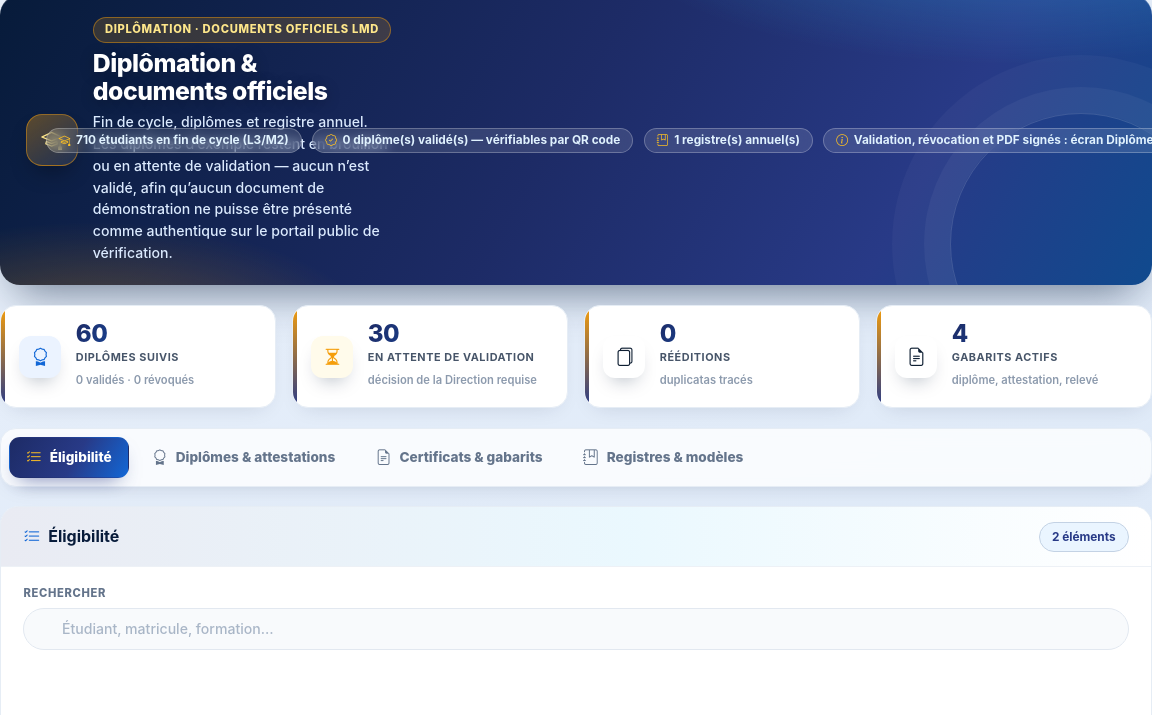
Hub Diplômation premium › affiche les diplômes préparés, jamais présentés comme validés
This screenshot has width=1152, height=715.
Click the tab "Diplômes & attestations": click(244, 457) [135,436,352,477]
(page scrolled)
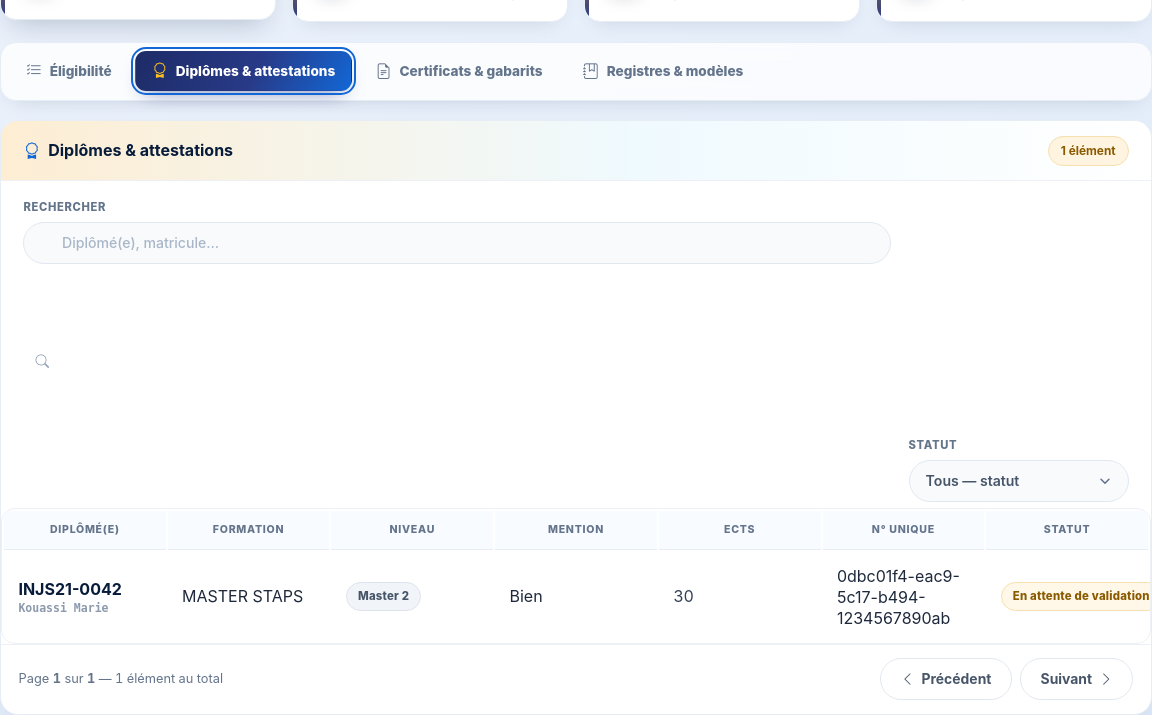
Result: the text "0dbc01f4-eac9-5c17-b494-1234567890ab" is shown at [837,566,970,629]
